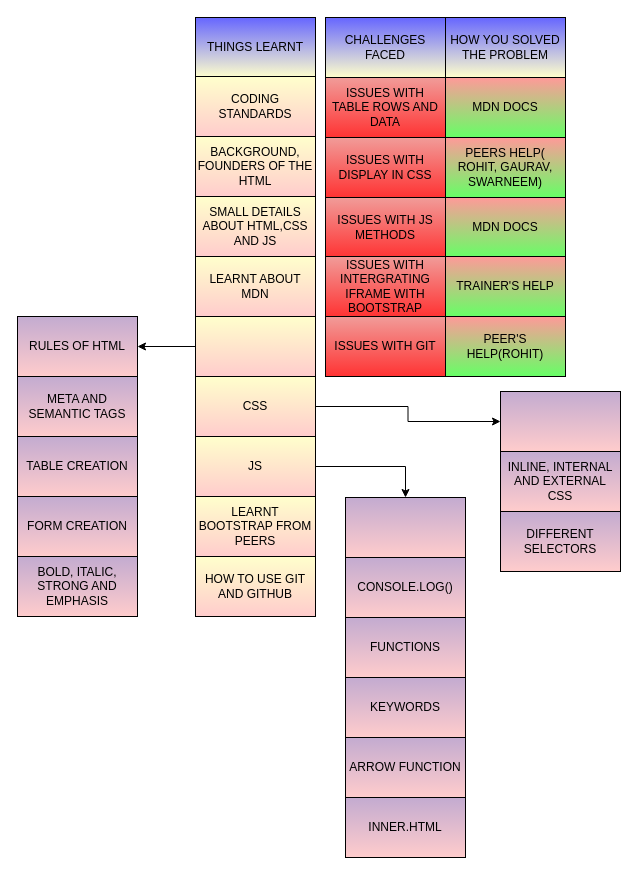
This 638x875 diagram has some shape labels left out. Each missing label, with the centre of its shape:
HTML: pixel 255 346
INLINE, INTERNAL AND EXTERNAL JS: pixel 405 527
USING BORDERS: pixel 560 421
